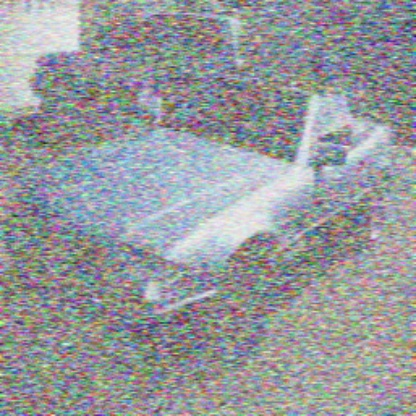Vehicle: (3, 62, 397, 380)
